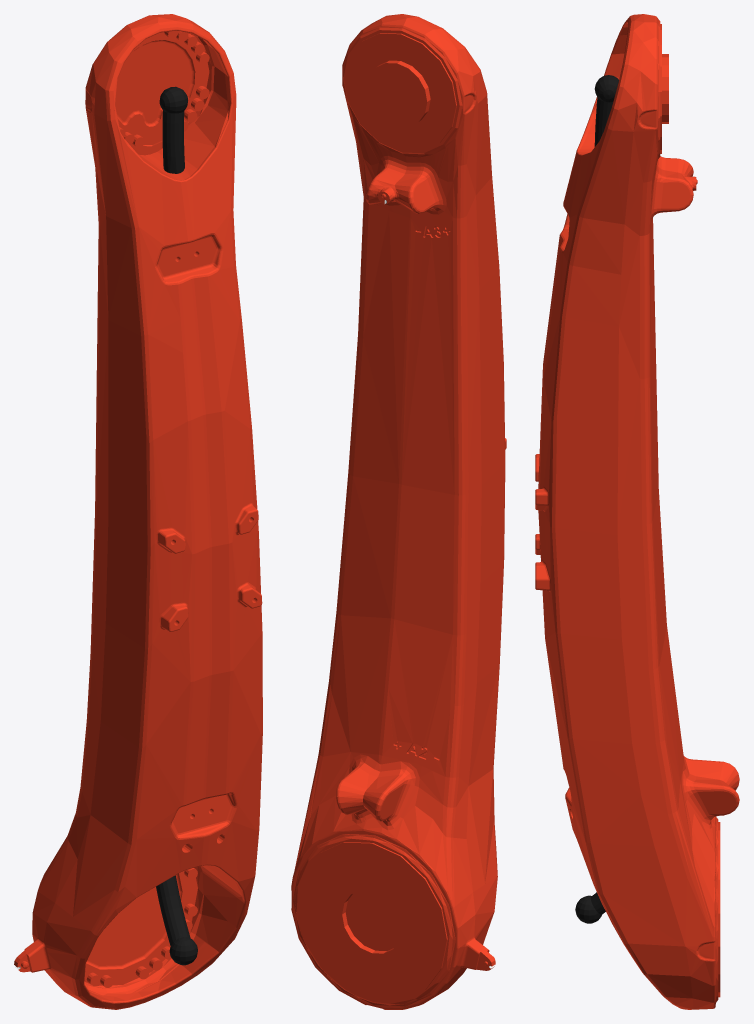
3 views of the same model, side by side, from view 1: azimuth 30°, elevation 25°; view 2: azimuth 150°, elevation 25°; view 3: azimuth 270°, elevation 25° (orthographic). The views are drawn at different scales.
Parts seen in each view (by area): view 1: link_2; view 2: link_2; view 3: link_2.
Boxes of the visible parts, x1,y1,x2,y2 form: link_2: [14, 14, 262, 1009]; link_2: [291, 14, 506, 1009]; link_2: [535, 14, 739, 1009].
Bounding box in the file's own units: 0.3265 × 0.2912 × 1.54.
